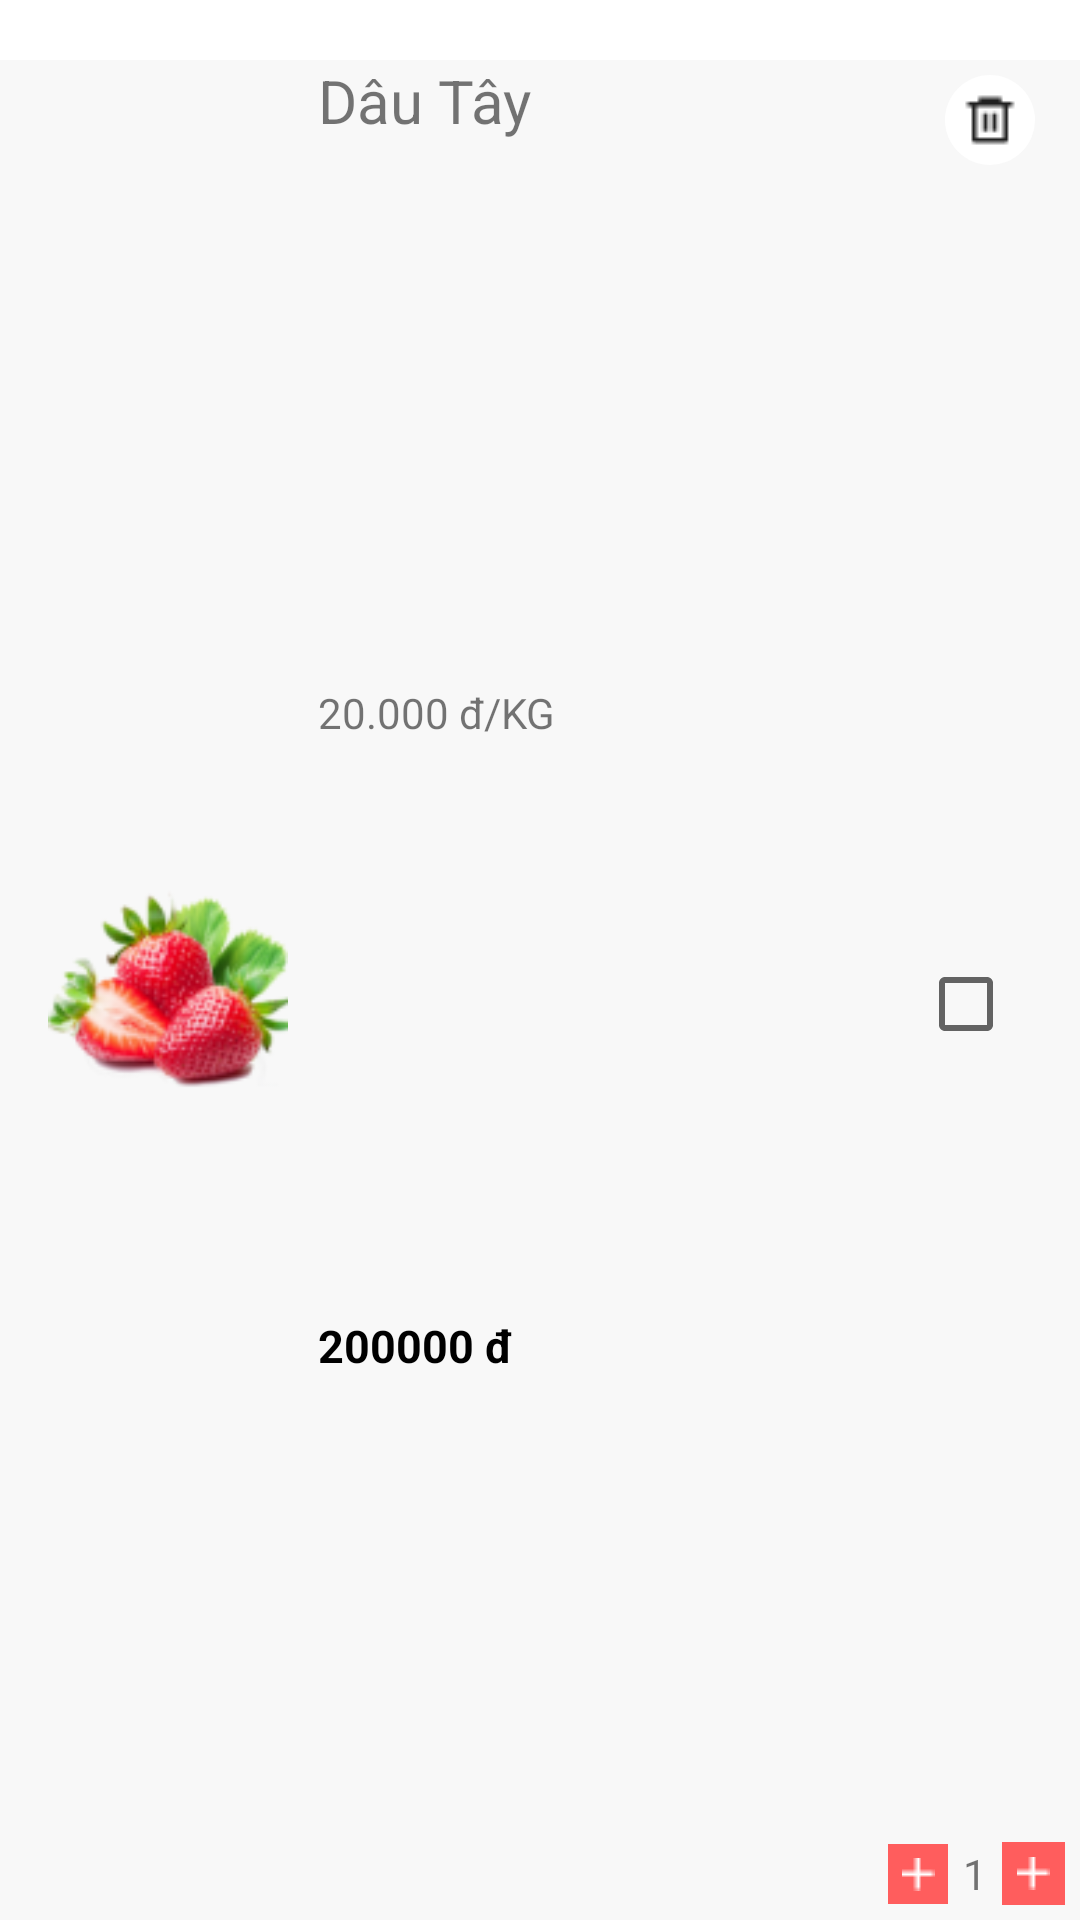

Named icons in this screenshot (1080x1920) and their centers, (x,y):
cong: (1033,1873), (918,1874)
delete: (990,120)
